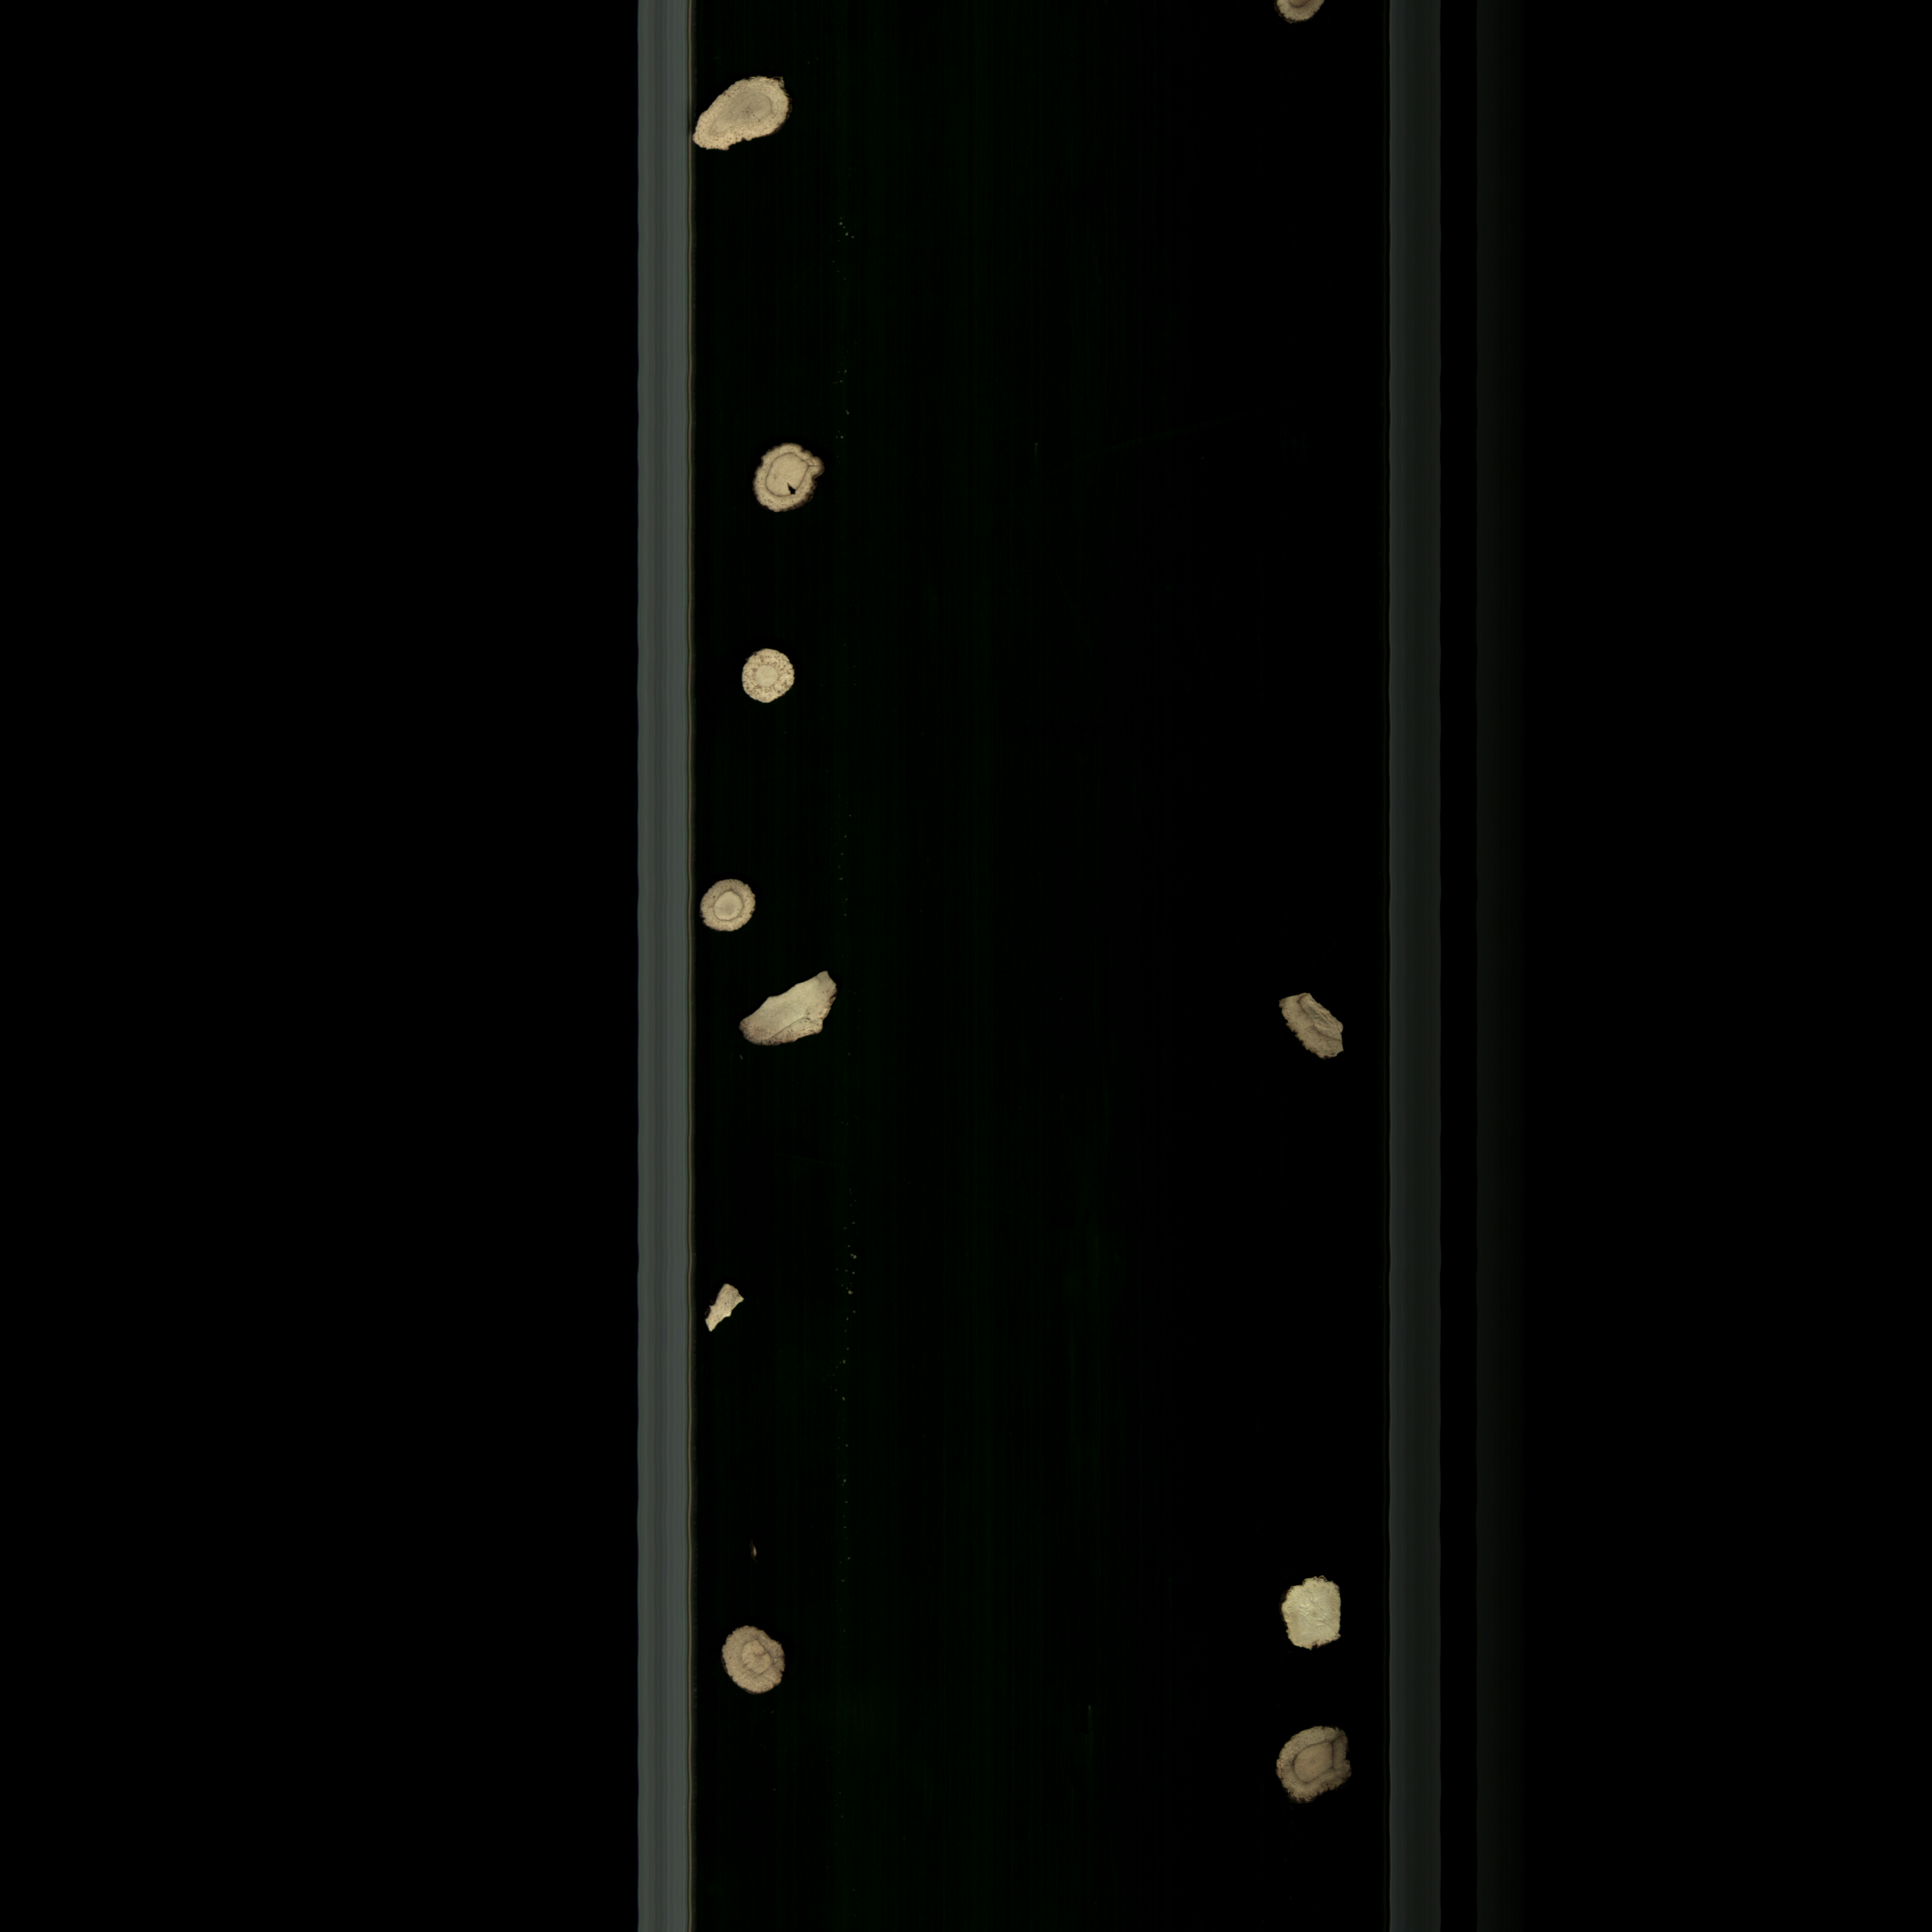debris: (736, 968, 847, 1053)
distortion: (694, 73, 800, 170)
dreg: (697, 1267, 754, 1343)
hole: (755, 426, 833, 520)
moldy: (1261, 1704, 1350, 1812), (1276, 980, 1364, 1077), (718, 1614, 787, 1718)
